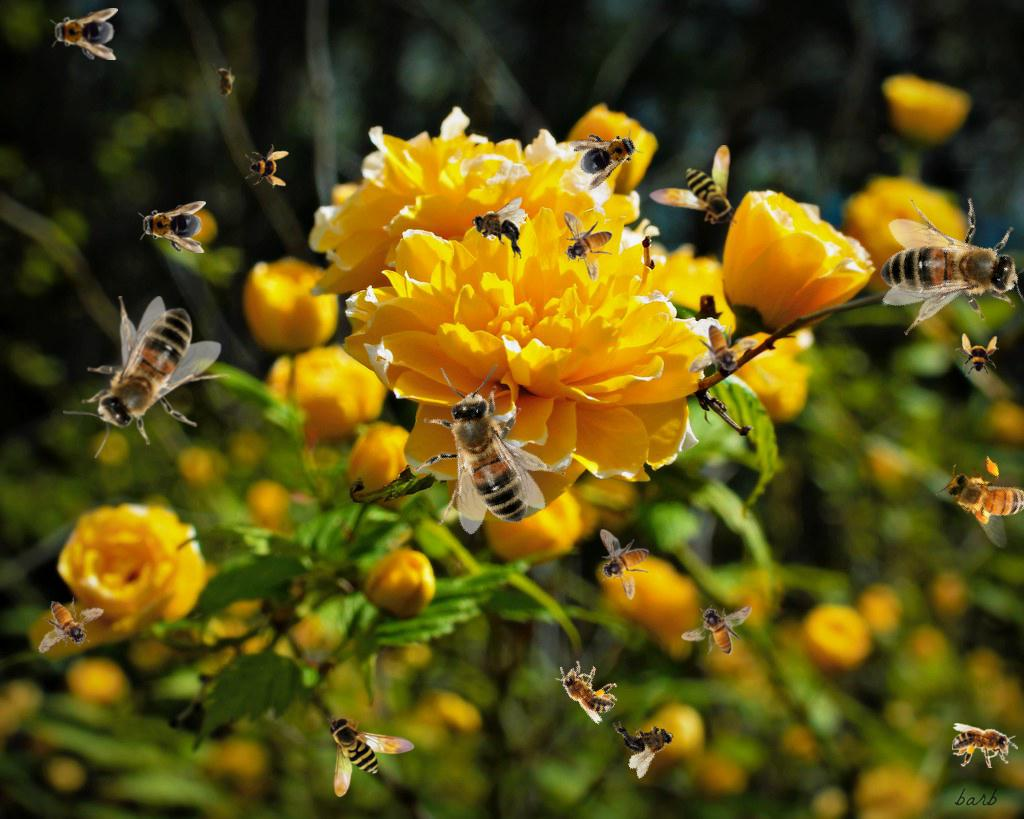Bee: (369, 340, 596, 568), (843, 152, 1024, 382), (63, 296, 230, 458), (930, 440, 1024, 555), (649, 145, 737, 227), (327, 715, 415, 797), (565, 116, 649, 192), (609, 701, 684, 781), (546, 651, 626, 726), (30, 592, 110, 655), (563, 211, 613, 282), (688, 324, 759, 374), (681, 605, 752, 655), (599, 529, 649, 600), (50, 8, 118, 60), (138, 201, 206, 253), (472, 197, 525, 259), (952, 723, 1018, 768), (245, 144, 289, 188), (955, 333, 999, 377), (213, 63, 235, 103)
